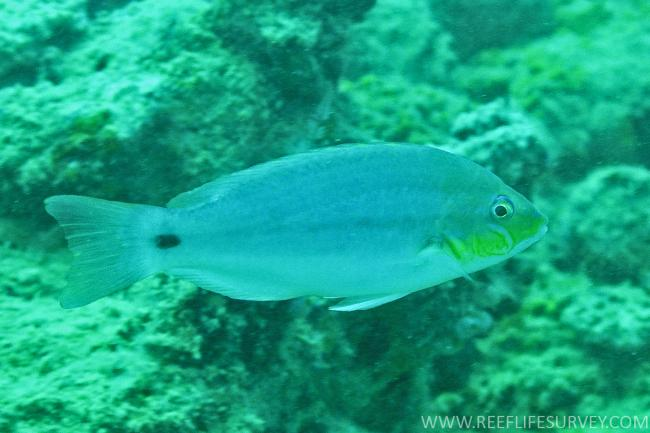fish: (43, 141, 550, 311)
